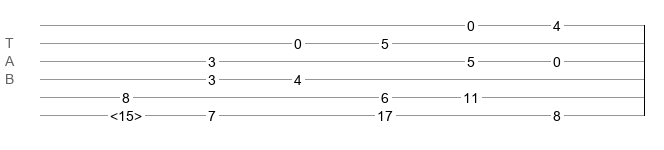0: (294, 36, 302, 46), (467, 18, 475, 28), (553, 54, 561, 64)
11: (463, 90, 479, 100)
17: (377, 108, 393, 118)
3: (208, 72, 216, 82), (208, 54, 216, 64)
4: (294, 72, 302, 82), (553, 18, 561, 28)
5: (381, 36, 389, 46), (467, 54, 475, 64)
6: (381, 90, 389, 100)
7: (208, 108, 216, 118)
8: (122, 90, 130, 100), (553, 108, 561, 118)
harmonic: (110, 108, 142, 118)
